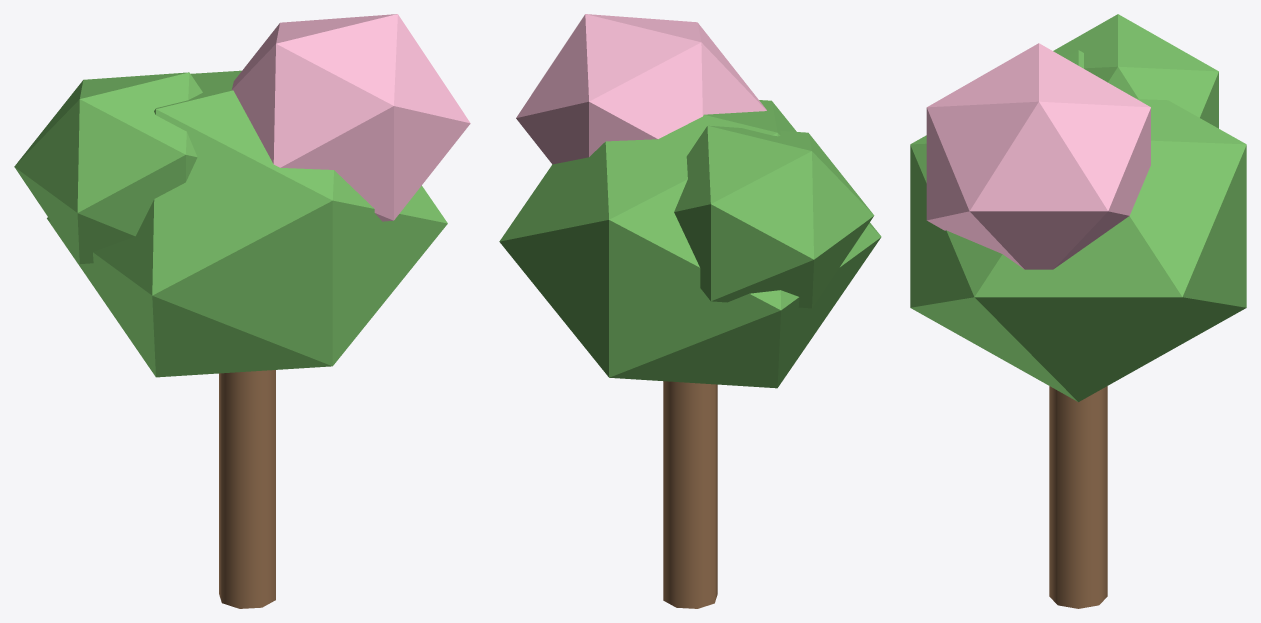
Rendered from tree.glb.
The picture shows the model from 3 angles, left to right: view 1: azimuth 30°, elevation 25°; view 2: azimuth 150°, elevation 25°; view 3: azimuth 270°, elevation 25°; orthographic projection. The views are drawn at different scales.
Parts seen in each view (by area): view 1: gardens tree; view 2: gardens tree; view 3: gardens tree.
Part boxes in pixels (<box>): gardens tree: <box>14,14,470,608</box>; gardens tree: <box>499,14,881,608</box>; gardens tree: <box>910,14,1246,608</box>.
Size of the model in its own units: 3.02 by 4.67 by 2.55.
